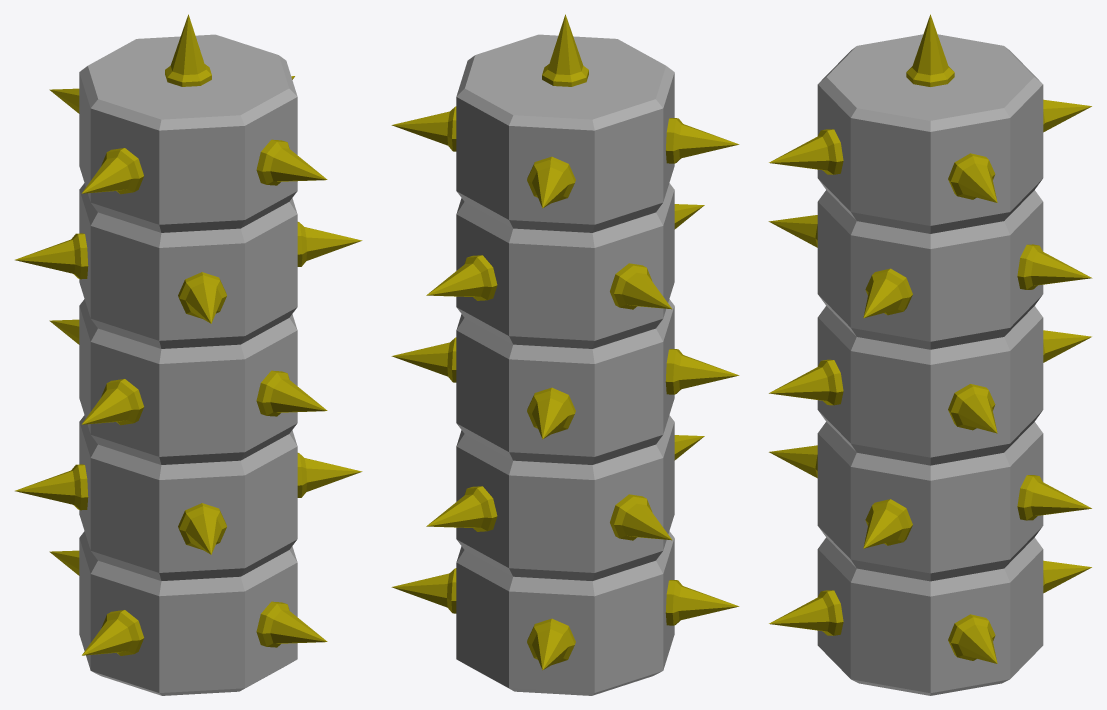
Rendered from Spiked_Column.fbx.
The picture shows the model from 3 angles, left to right: view 1: azimuth 30°, elevation 25°; view 2: azimuth 150°, elevation 25°; view 3: azimuth 270°, elevation 25°; orthographic projection.
Visible parts, largest first — view 1: Spike_Column; view 2: Spike_Column; view 3: Spike_Column.
Part boxes in pixels (bbox=[...]): Spike_Column: bbox=[15, 14, 362, 695]; Spike_Column: bbox=[391, 14, 739, 695]; Spike_Column: bbox=[768, 14, 1092, 695].
Size of the model in its own units: 153 by 333 by 153.
